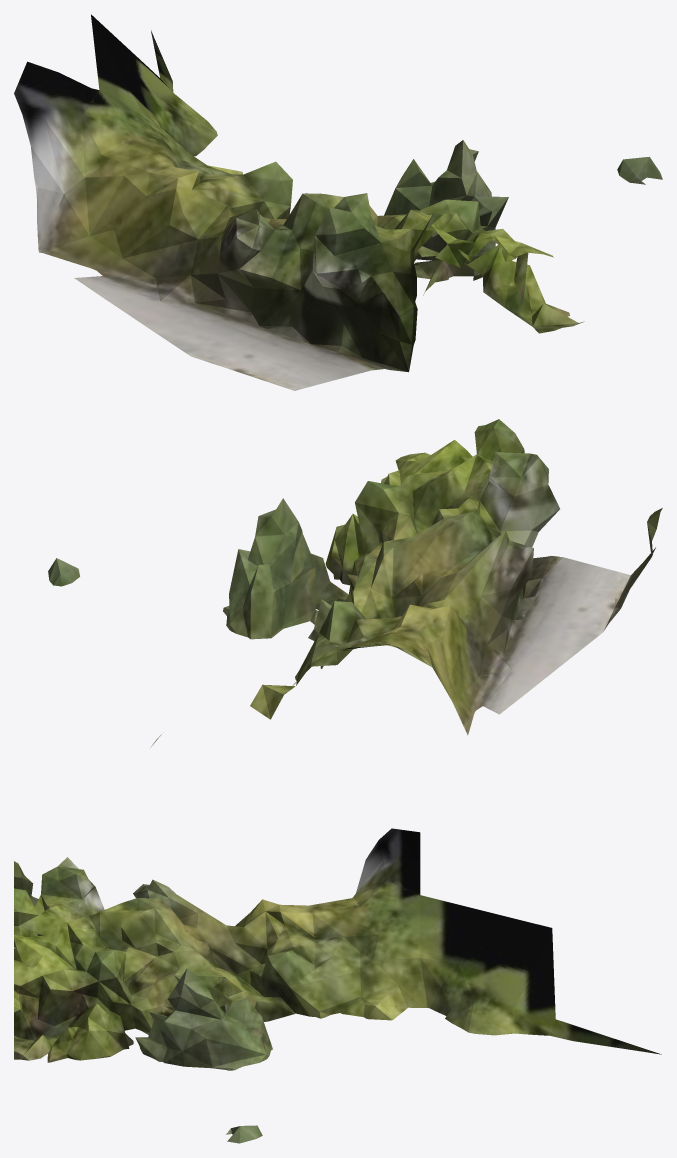
The picture shows the model from 3 angles, top to bottom: view 1: azimuth 30°, elevation 25°; view 2: azimuth 150°, elevation 25°; view 3: azimuth 270°, elevation 25°; orthographic projection. The views are drawn at different scales.
Bounding box in the file's own units: 33.5 × 9.06 × 44.49.
Materials: 1 (1 with a texture image).
